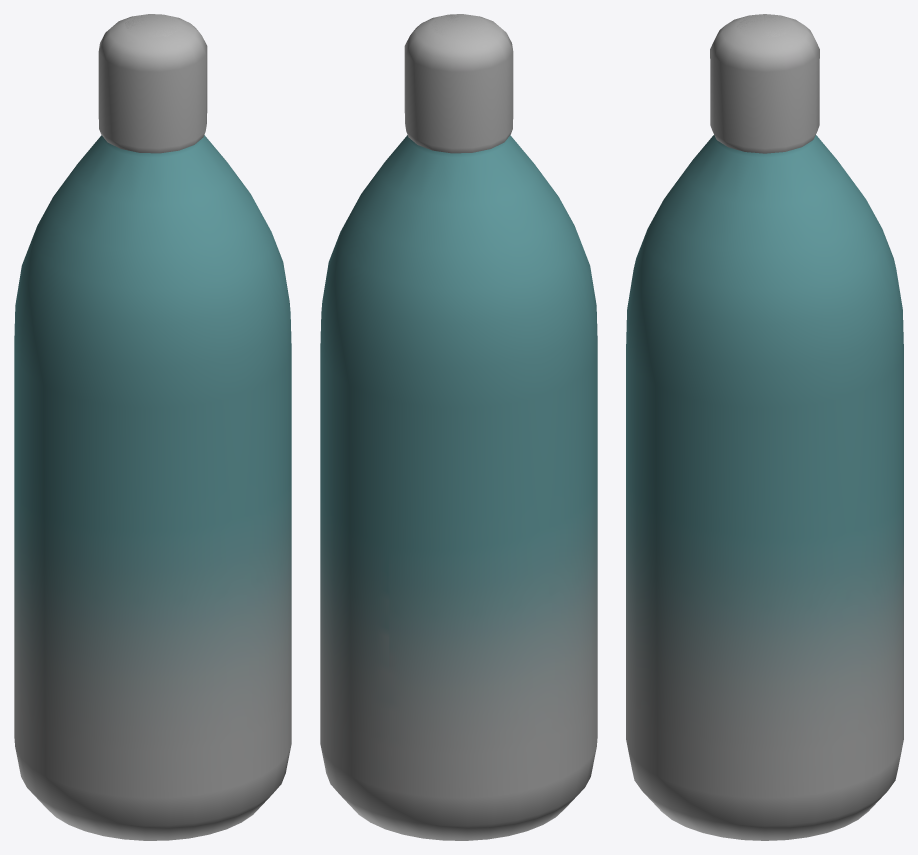
Rendered from pi_waterbottle03_02.gltf.
3 views of the same model, side by side, from view 1: azimuth 30°, elevation 25°; view 2: azimuth 150°, elevation 25°; view 3: azimuth 270°, elevation 25° (orthographic).
Parts seen in each view (by area): view 1: um_pi_waterbottle03_02_model_lod0Shape:pi_waterbottle03_body, um_pi_waterbottle03_02_model_lod1Shape:pi_waterbottle03_body; view 2: um_pi_waterbottle03_02_model_lod0Shape:pi_waterbottle03_body, um_pi_waterbottle03_02_model_lod1Shape:pi_waterbottle03_body; view 3: um_pi_waterbottle03_02_model_lod0Shape:pi_waterbottle03_body, um_pi_waterbottle03_02_model_lod1Shape:pi_waterbottle03_body.
Boxes of the visible parts, bbox=[...] form: um_pi_waterbottle03_02_model_lod0Shape:pi_waterbottle03_body: bbox=[14, 14, 291, 840]; um_pi_waterbottle03_02_model_lod1Shape:pi_waterbottle03_body: bbox=[98, 14, 195, 141]; um_pi_waterbottle03_02_model_lod0Shape:pi_waterbottle03_body: bbox=[320, 14, 597, 840]; um_pi_waterbottle03_02_model_lod1Shape:pi_waterbottle03_body: bbox=[404, 14, 506, 153]; um_pi_waterbottle03_02_model_lod0Shape:pi_waterbottle03_body: bbox=[626, 14, 903, 840]; um_pi_waterbottle03_02_model_lod1Shape:pi_waterbottle03_body: bbox=[736, 14, 819, 153].
Bounding box in the file's own units: 0.127 × 0.387 × 0.1271.
1 material, 1 textured.
